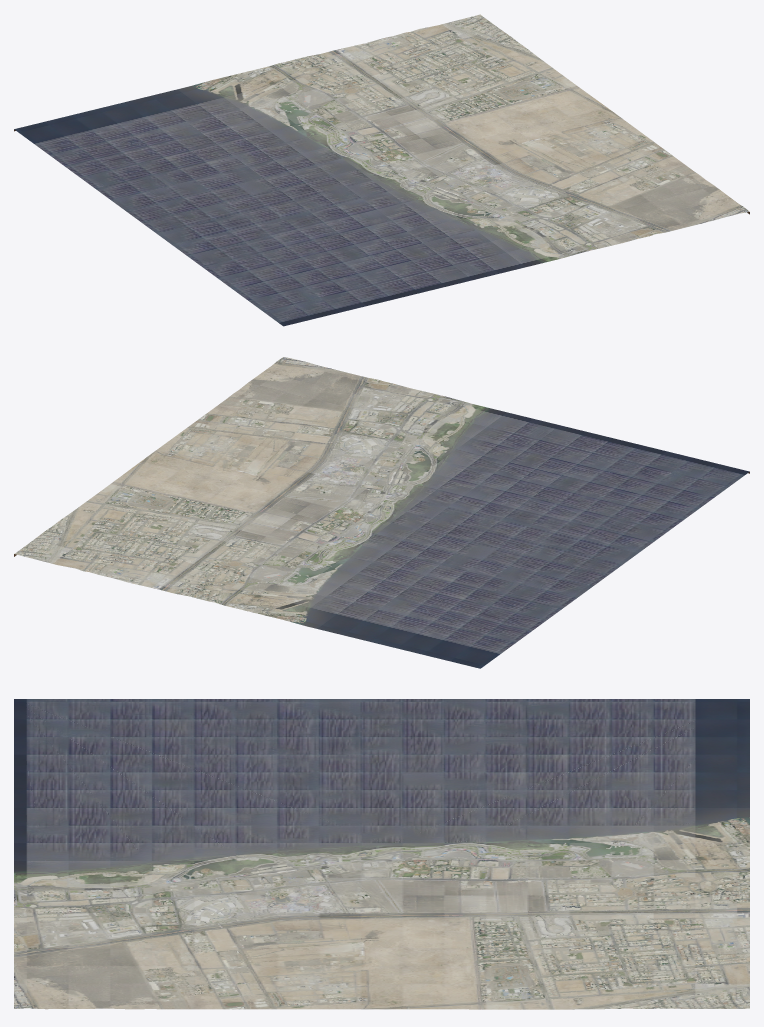
The model's file is 05_saudi_arabian_gp.glb.
3 views of the same model, one above another, from view 1: azimuth 30°, elevation 25°; view 2: azimuth 150°, elevation 25°; view 3: azimuth 270°, elevation 25° (orthographic). The views are drawn at different scales.
Parts seen in each view (by area): view 1: tinMesh; view 2: tinMesh; view 3: tinMesh.
Part boxes in pixels (box(x1,y1,x2,y2)): tinMesh: box(14, 14, 749, 326); tinMesh: box(14, 357, 749, 668); tinMesh: box(14, 699, 749, 1009).
Size of the model in its own units: 5385 by 53.75 by 5386.
2 materials, 2 textured.
